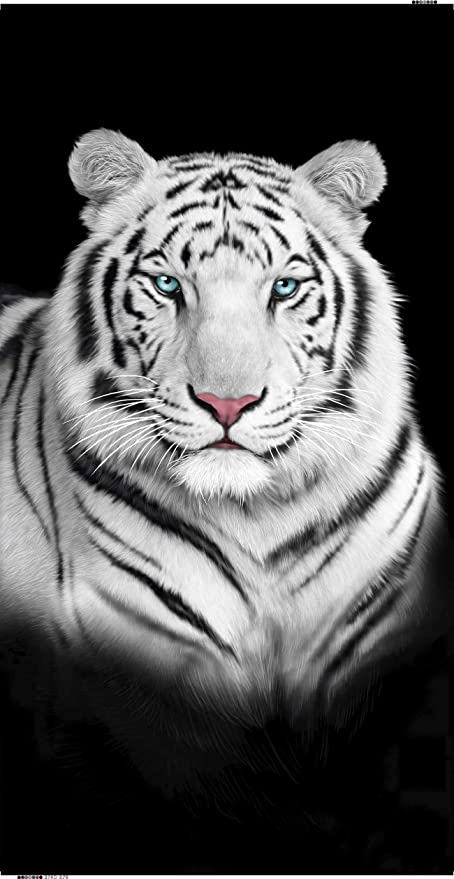Tigrew: (48, 103, 409, 691)
